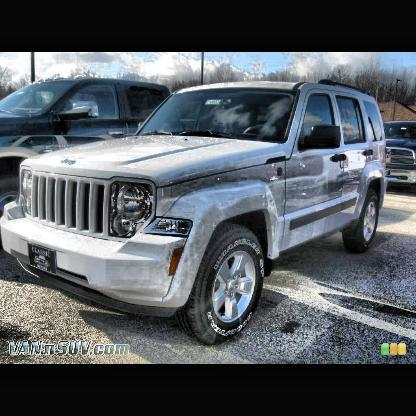Jeep Liberty SUV 2012: (1, 82, 389, 349)
